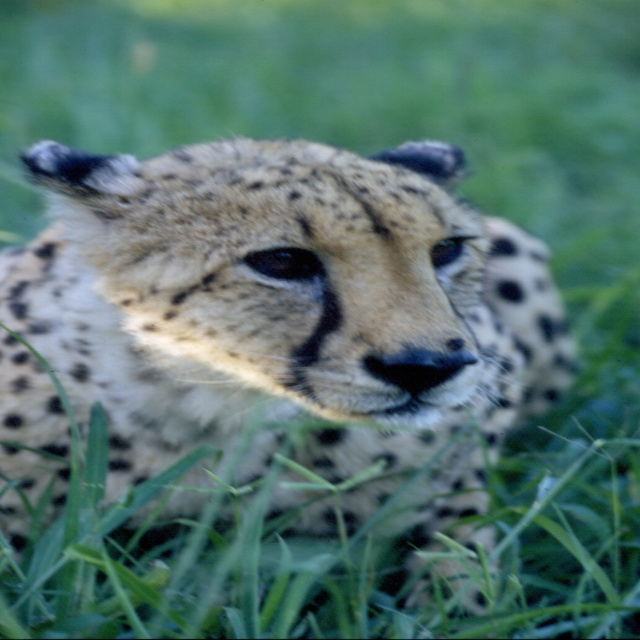Leopard: (0, 132, 569, 618)
